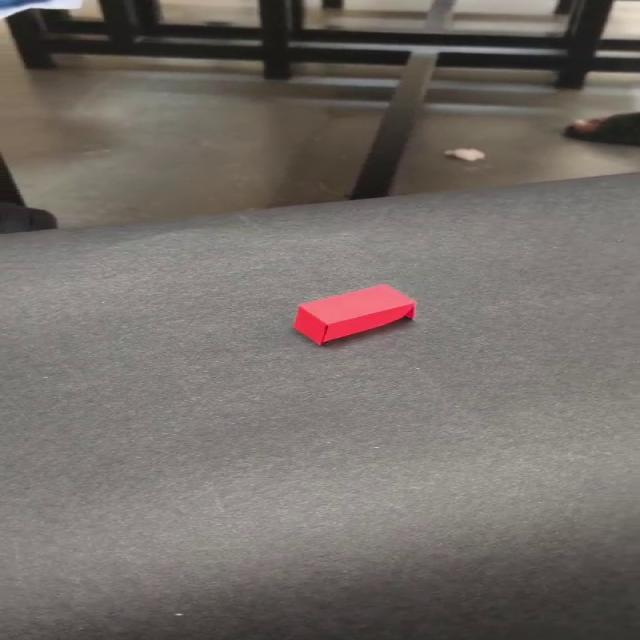red block: (292, 283, 416, 345)
